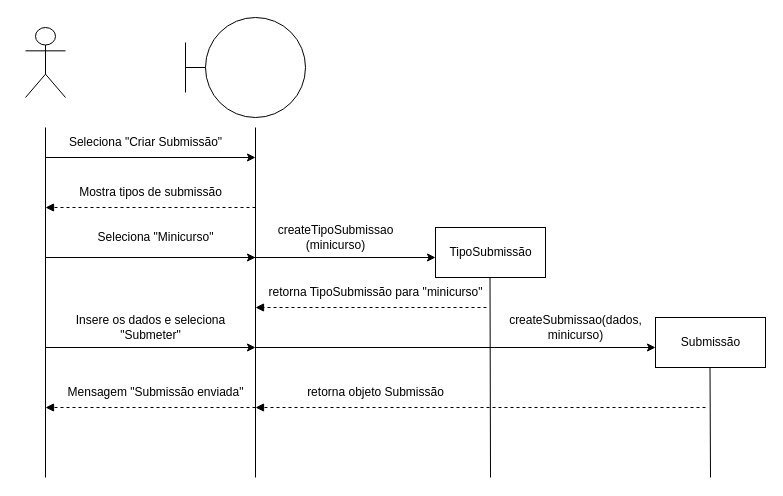
Image size: 783x496. Some labels were removed from this diagram. The shapes that lost their labels are listed below. From the top down, each one's centre as x and y in pixels, then its label:
pixel 45 62: Submissor
pixel 245 67: ViewSubmissao Minicurso
